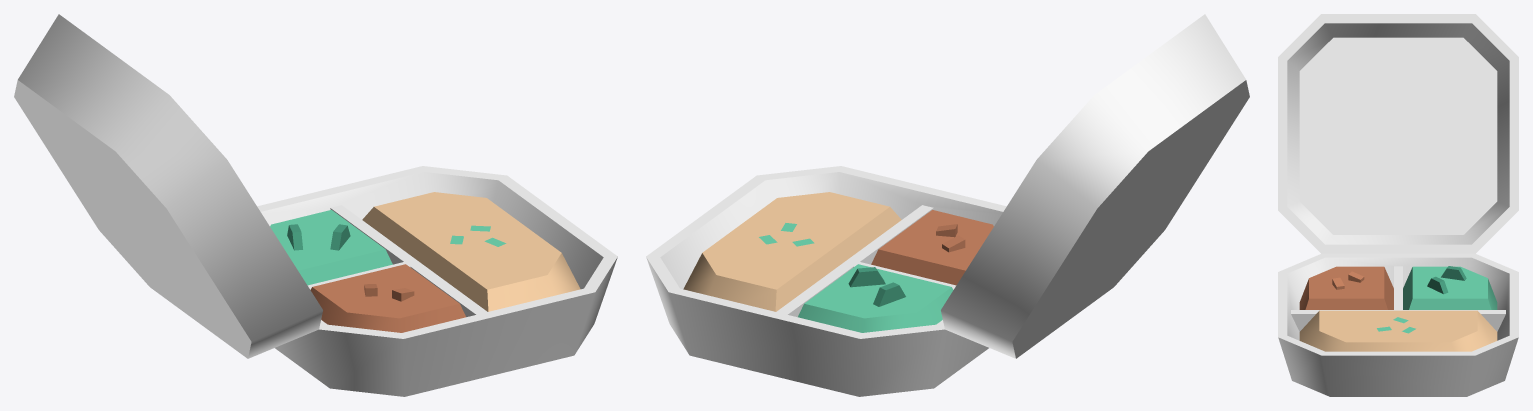
The model's file is prop-bento.glb.
3 views of the same model, side by side, from view 1: azimuth 30°, elevation 25°; view 2: azimuth 150°, elevation 25°; view 3: azimuth 270°, elevation 25° (orthographic). The views are drawn at different scales.
Parts seen in each view (by area): view 1: styrofoamDinner; view 2: styrofoamDinner; view 3: styrofoamDinner.
Boxes of the visible parts, x1,y1,x2,y2 form: styrofoamDinner: (14, 14, 617, 396); styrofoamDinner: (646, 14, 1249, 396); styrofoamDinner: (1278, 14, 1518, 396).
Size of the model in its own units: 1.26 by 0.822 by 0.7589.
1 material, 1 textured.
